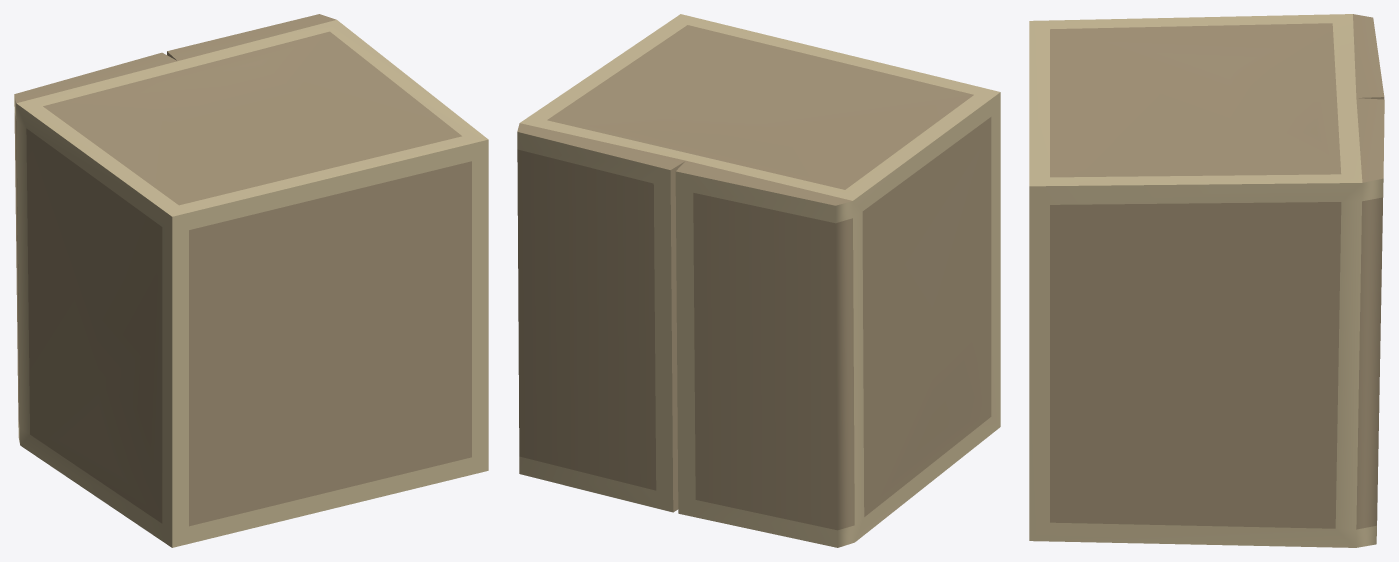
The model's file is BoxA.fbx.
3 views of the same model, side by side, from view 1: azimuth 30°, elevation 25°; view 2: azimuth 150°, elevation 25°; view 3: azimuth 270°, elevation 25° (orthographic). The views are drawn at different scales.
Parts seen in each view (by area): view 1: BoxA; view 2: BoxA; view 3: BoxA.
Boxes of the visible parts, bbox=[...] form: BoxA: bbox=[14, 14, 488, 547]; BoxA: bbox=[517, 14, 1000, 547]; BoxA: bbox=[1029, 14, 1384, 547].
Bounding box in the file's own units: 58.42 × 58.55 × 51.47.
